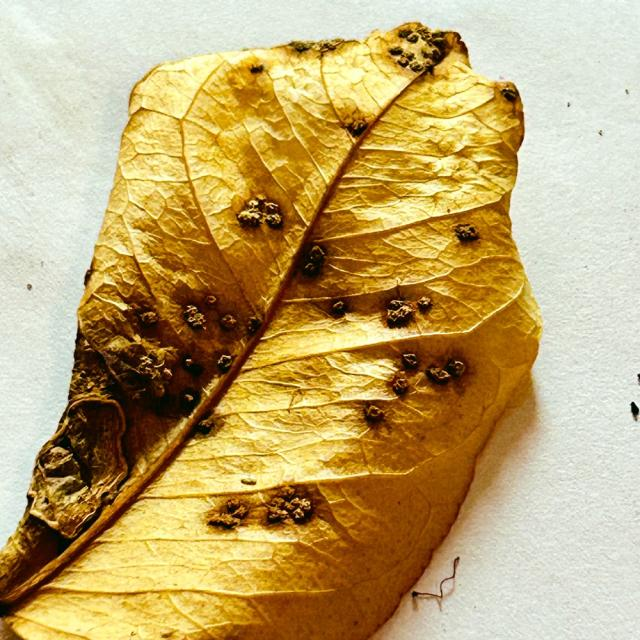DryLeaf_Lemon: (0, 22, 541, 639)
